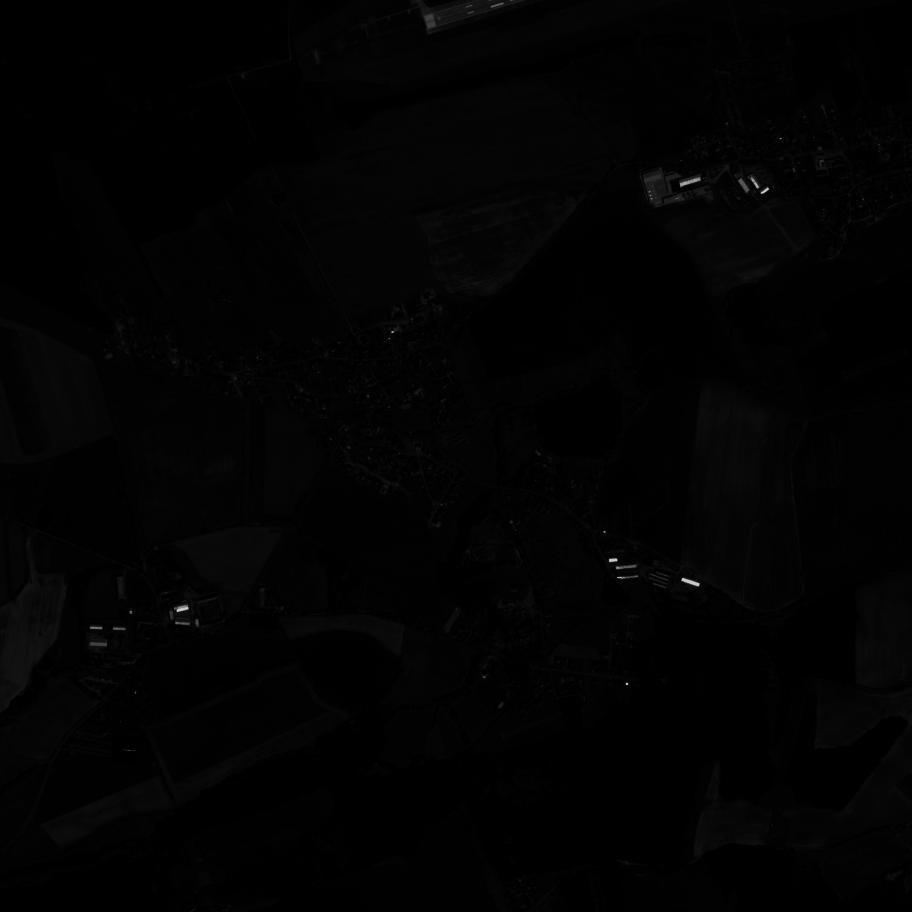plane: (113, 737, 139, 765)
